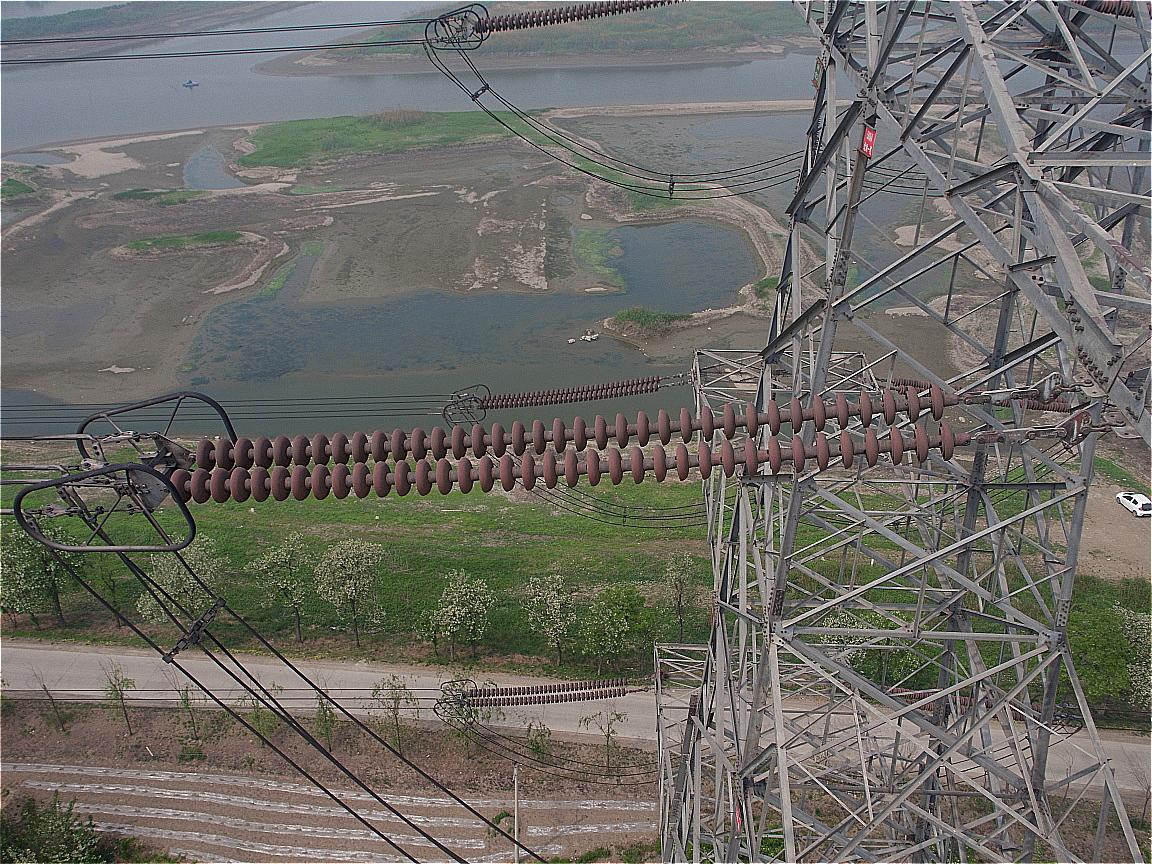insultor1: (170, 385, 954, 502)
insultor2: (480, 1, 662, 33), (481, 376, 661, 408), (463, 677, 628, 709)
